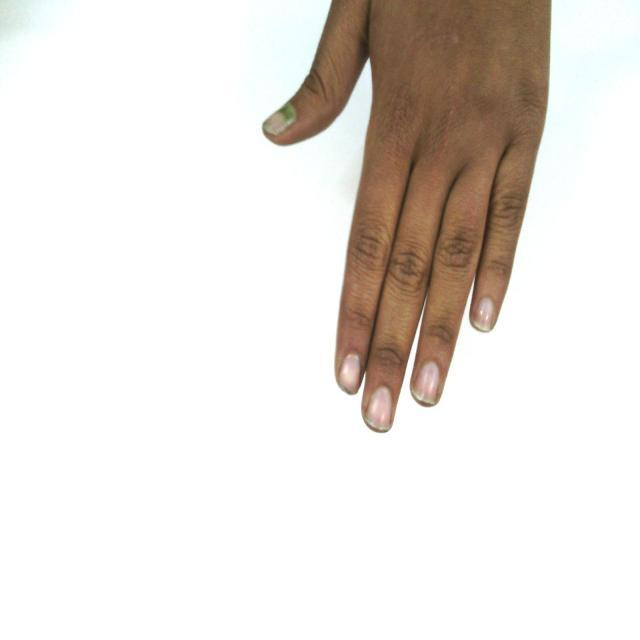Fingernail: (364, 387, 392, 431), (413, 362, 440, 405), (264, 105, 295, 134), (340, 354, 362, 394), (472, 299, 495, 331)
